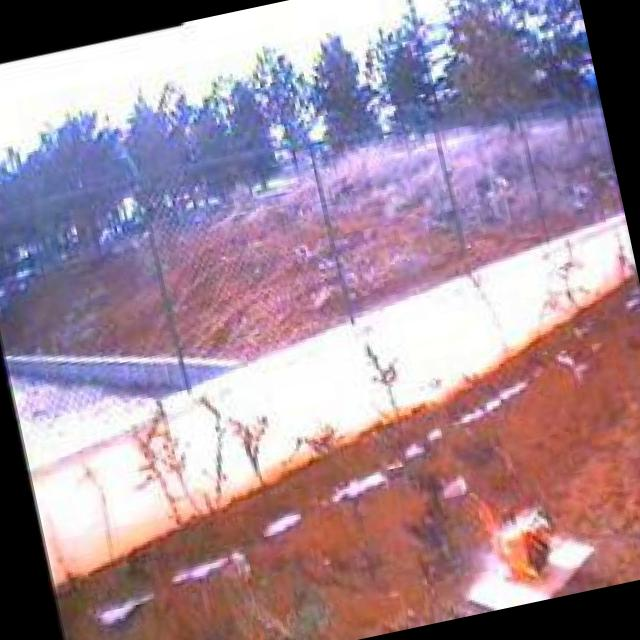Fire: (462, 474, 568, 596)
